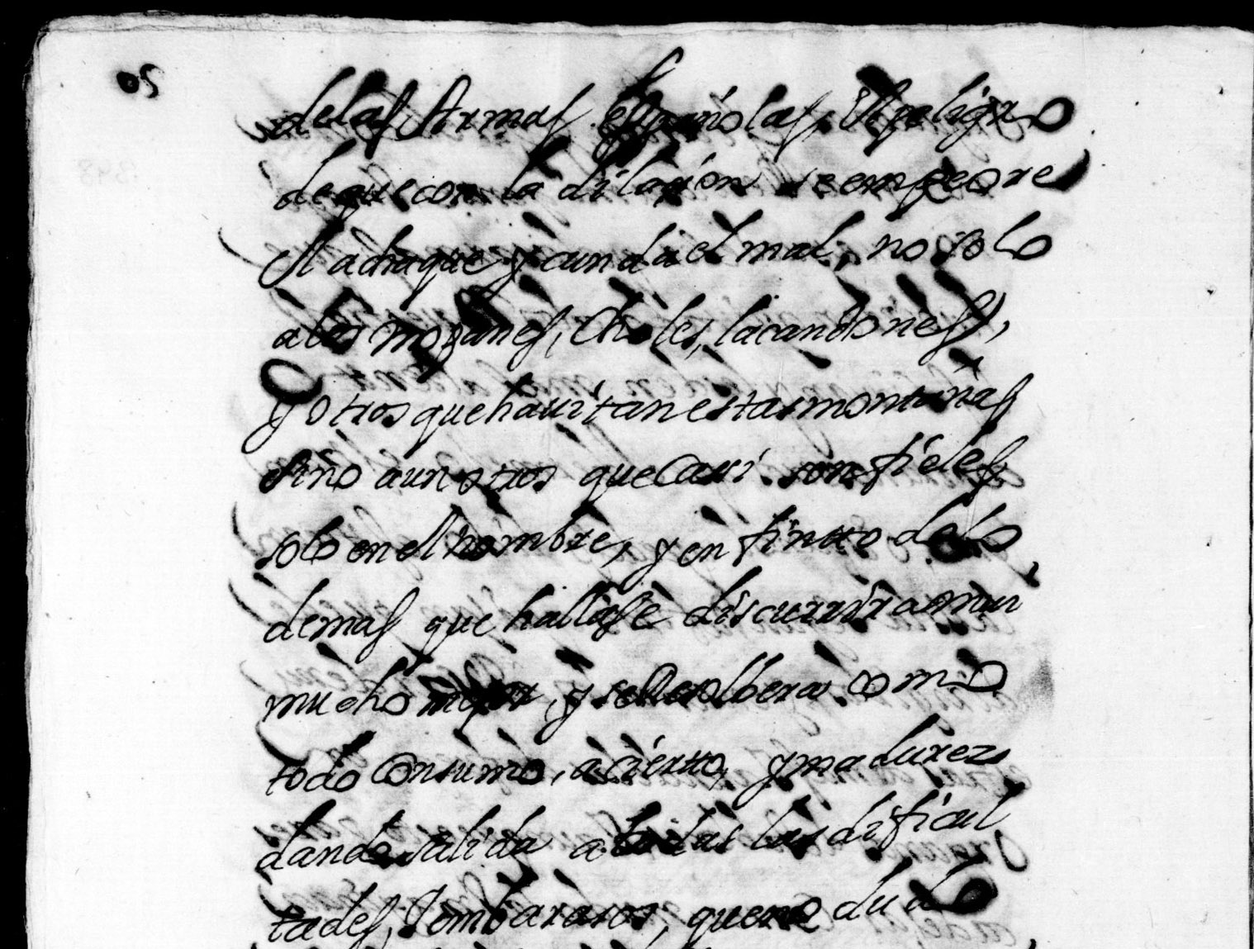lacandon: (714, 289, 1006, 366)
